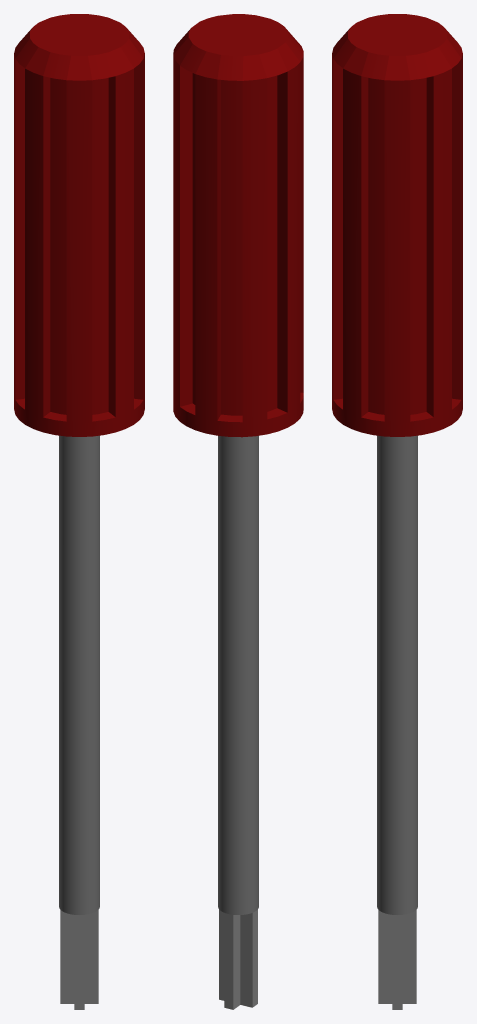
File: tournevise.fbx
The picture shows the model from 3 angles, left to right: view 1: azimuth 90°, elevation 25°; view 2: azimuth 150°, elevation 25°; view 3: azimuth 270°, elevation 25°; orthographic projection.
Visible parts, largest first — view 1: tournevise; view 2: tournevise; view 3: tournevise.
Part boxes in pixels (x1,y1,x2,y2): tournevise: (14, 14, 144, 1009); tournevise: (173, 14, 303, 1009); tournevise: (332, 14, 462, 1009).
Size of the model in its own units: 21.5 by 175 by 21.5.
1 material, 1 textured.
